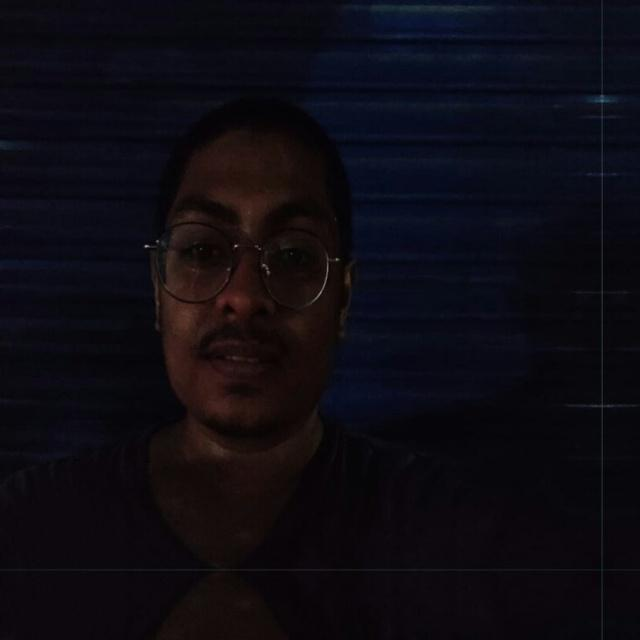Natural: (117, 76, 377, 476)
